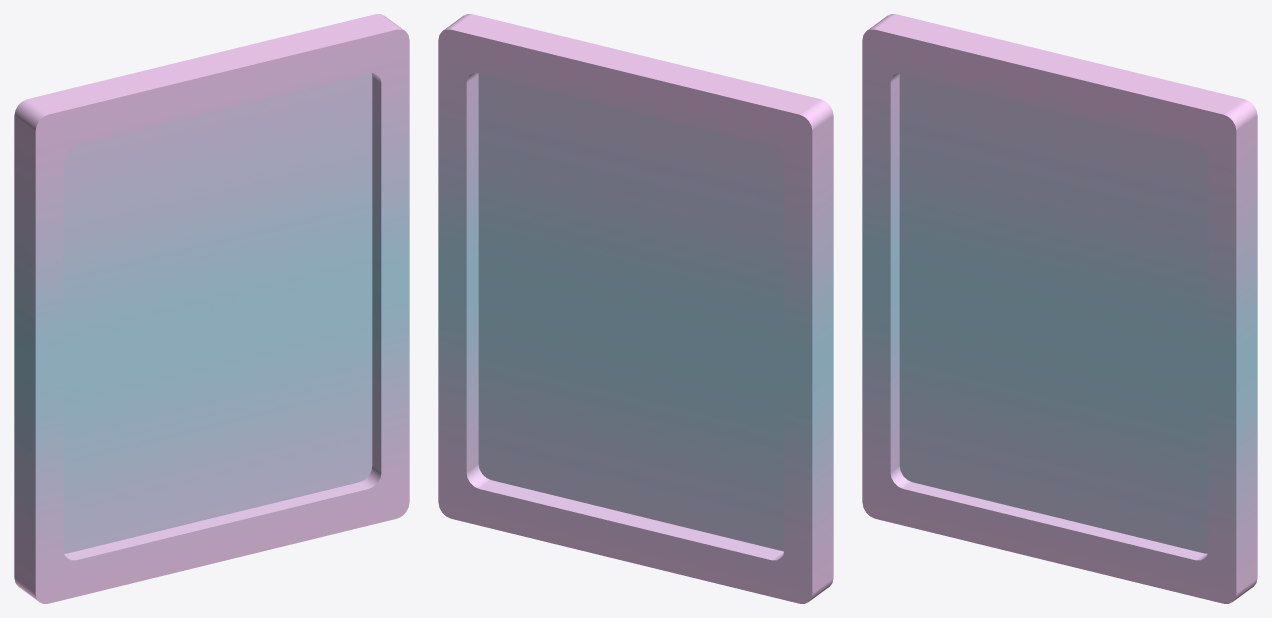
Rendered from MEC0110028.fbx.
The picture shows the model from 3 angles, left to right: view 1: azimuth 30°, elevation 25°; view 2: azimuth 150°, elevation 25°; view 3: azimuth 330°, elevation 25°; orthographic projection.
Visible parts, largest first — view 1: smMEC0110028; view 2: smMEC0110028; view 3: smMEC0110028.
Boxes of the visible parts, <box> form: smMEC0110028: <box>14,14,409,603</box>; smMEC0110028: <box>438,14,833,603</box>; smMEC0110028: <box>862,14,1257,603</box>.
Bounding box in the file's own units: 667 × 833 × 65.33.
1 material, 1 textured.
